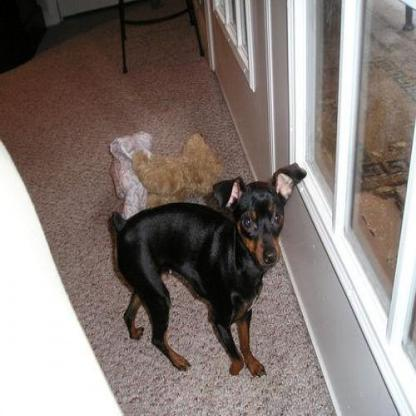miniature_pinscher: (100, 163, 308, 377)
